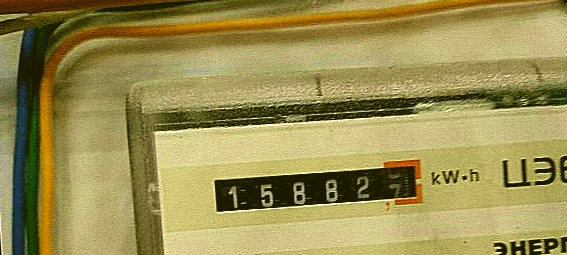1: (227, 180, 242, 209)
2: (354, 172, 373, 199)
5: (258, 179, 277, 210)
7: (388, 179, 402, 197)
8: (290, 177, 308, 206), (323, 174, 341, 203)
screen: (202, 149, 432, 224)
